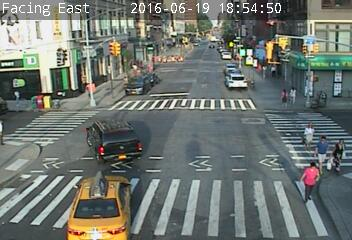neg: (226, 167, 256, 208), (185, 125, 215, 165), (241, 32, 266, 66), (60, 36, 84, 68), (35, 76, 57, 105), (163, 185, 184, 213), (158, 44, 178, 71), (40, 127, 60, 154), (49, 173, 69, 200), (102, 91, 122, 117), (304, 40, 321, 63), (115, 43, 132, 66), (206, 38, 223, 60), (114, 134, 130, 155), (98, 174, 113, 195), (230, 85, 243, 102)
pos: (296, 160, 328, 203), (324, 137, 349, 169), (298, 117, 320, 146), (314, 132, 335, 161), (274, 88, 287, 105), (286, 83, 298, 100)
